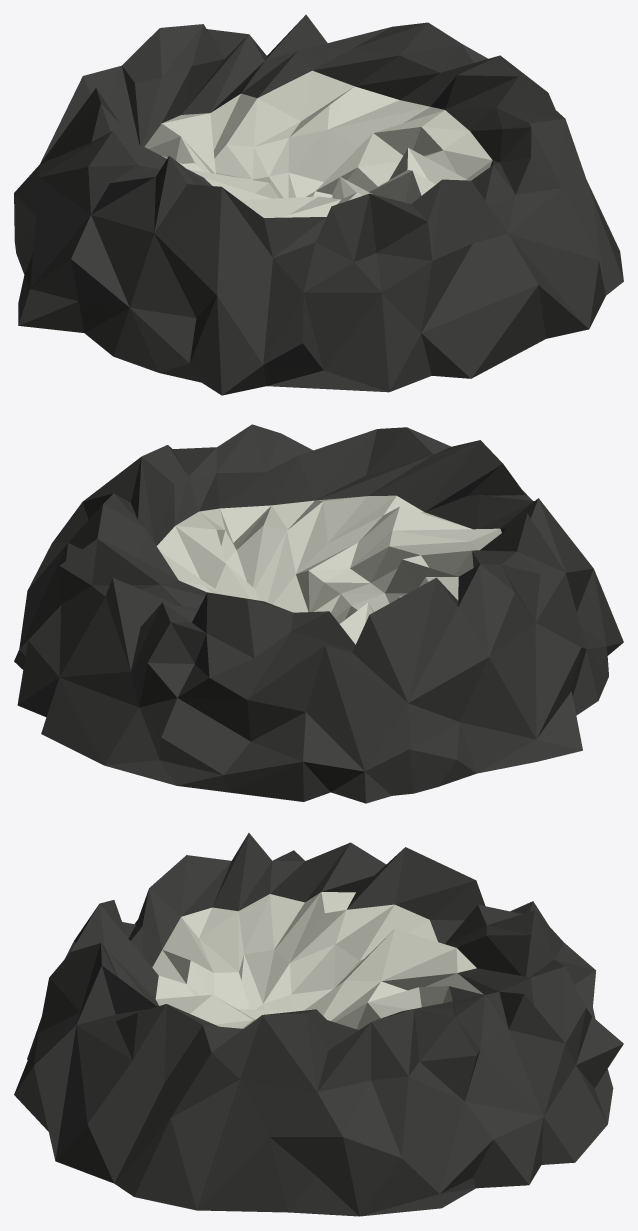
The model's file is DD_Plant02.fbx.
3 renders of one model, top to bottom at view 1: azimuth 30°, elevation 25°; view 2: azimuth 150°, elevation 25°; view 3: azimuth 270°, elevation 25°, orthographic. The views are drawn at different scales.
Visible parts, largest first — view 1: DD_Plant02; view 2: DD_Plant02; view 3: DD_Plant02.
Boxes of the visible parts, bbox=[...] form: DD_Plant02: bbox=[14, 14, 623, 395]; DD_Plant02: bbox=[14, 424, 623, 803]; DD_Plant02: bbox=[14, 833, 623, 1216].
Bounding box in the file's own units: 243 × 77.1 × 243.
1 material, 1 textured.
